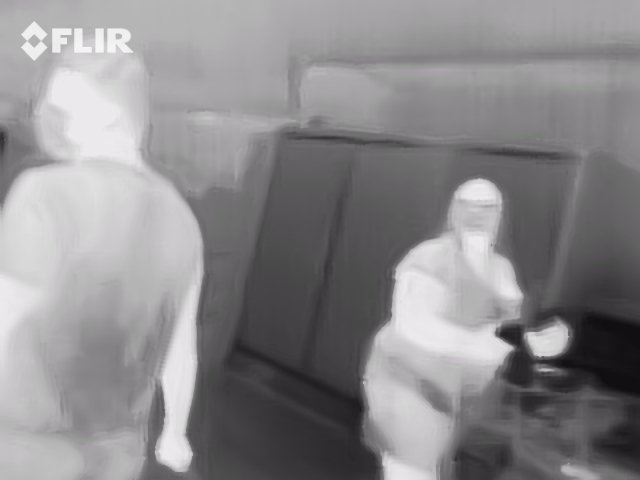head: (30, 40, 151, 160), (448, 176, 505, 247)
